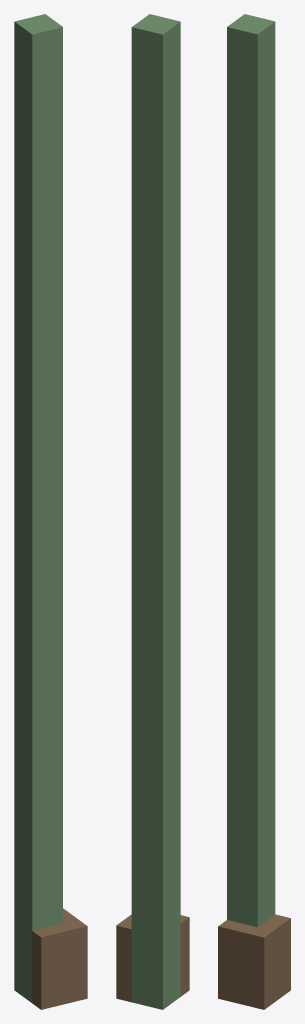
File: Mesh_WallBaseboard_F6.fbx
3 views of the same model, side by side, from view 1: azimuth 30°, elevation 25°; view 2: azimuth 150°, elevation 25°; view 3: azimuth 330°, elevation 25° (orthographic).
Visible parts, largest first — view 1: Mesh_WallBaseboard_F6; view 2: Mesh_WallBaseboard_F6; view 3: Mesh_WallBaseboard_F6.
Part boxes in pixels (box(x1,y1,x2,y2)): Mesh_WallBaseboard_F6: box(14, 14, 87, 1009); Mesh_WallBaseboard_F6: box(116, 14, 189, 1009); Mesh_WallBaseboard_F6: box(218, 14, 290, 1009).
Size of the model in its own units: 0.15 by 3 by 0.15.
